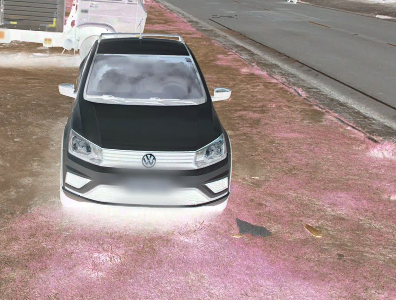car: (53, 22, 239, 222)
